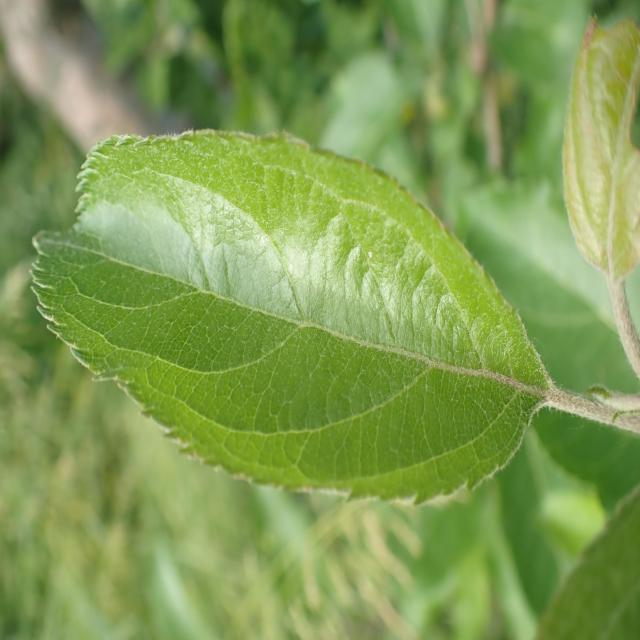healthy: (28, 127, 550, 507)
